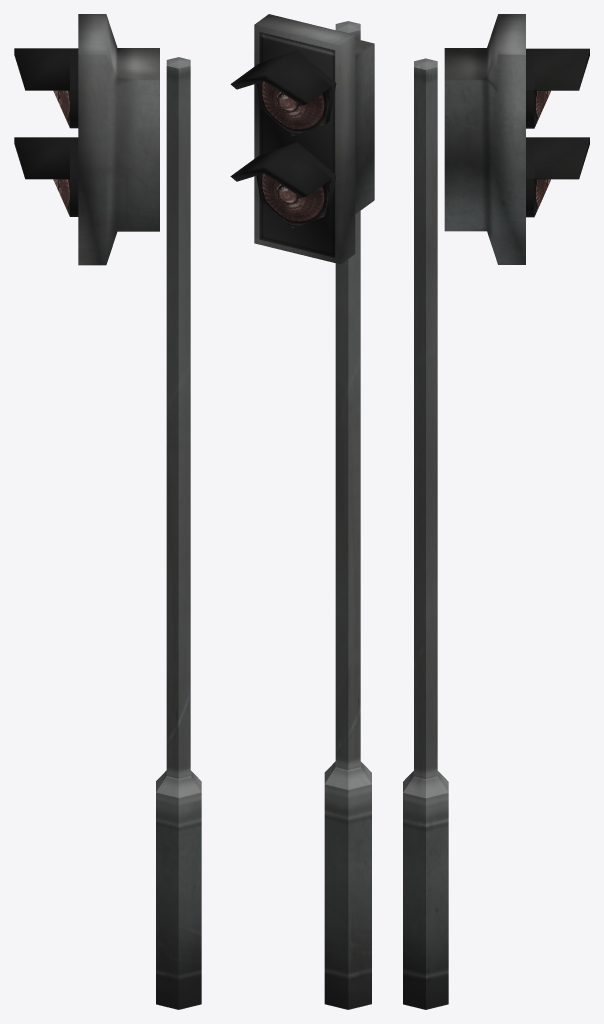
The model's file is PFB-Racing-Track-Assets-01-Traffic-Light-Small.fbx.
3 renders of one model, left to right at view 1: azimuth 90°, elevation 25°; view 2: azimuth 150°, elevation 25°; view 3: azimuth 270°, elevation 25°, orthographic. The views are drawn at different scales.
Parts seen in each view (by area): view 1: traffic_light_S_pole, traffic_light_S_lights; view 2: traffic_light_S_lights, traffic_light_S_pole; view 3: traffic_light_S_pole, traffic_light_S_lights.
Boxes of the visible parts, x1=… form: traffic_light_S_pole: x1=156, y1=57, x2=201, y2=1009; traffic_light_S_lights: x1=14, y1=14, x2=159, y2=265; traffic_light_S_lights: x1=230, y1=14, x2=374, y2=264; traffic_light_S_pole: x1=324, y1=21, x2=371, y2=1009; traffic_light_S_pole: x1=403, y1=58, x2=448, y2=1009; traffic_light_S_lights: x1=444, y1=14, x2=589, y2=264.
Size of the model in its own units: 3.66 by 40.57 by 7.13.
